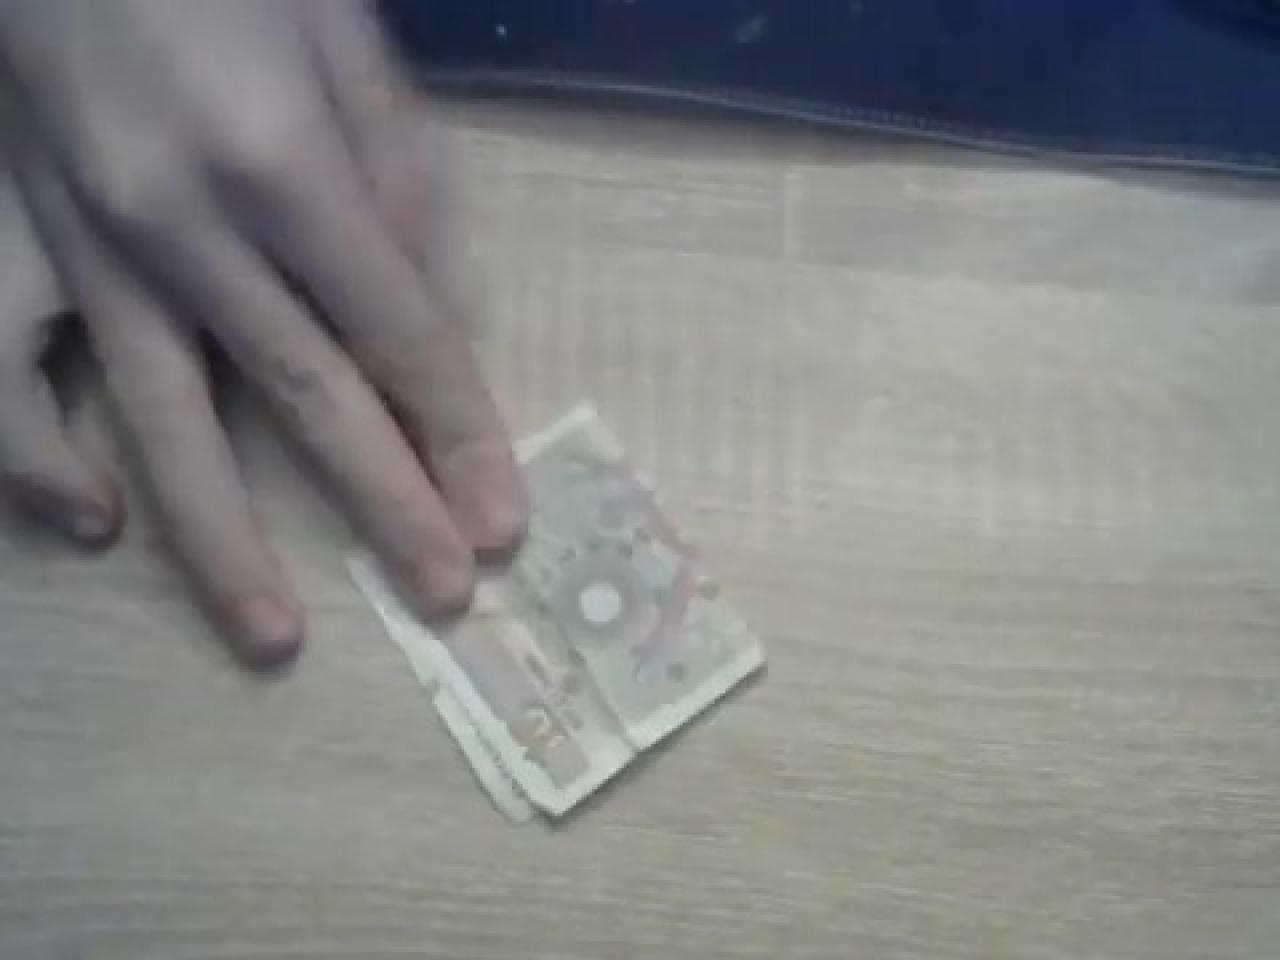10leva: (342, 397, 768, 824)
